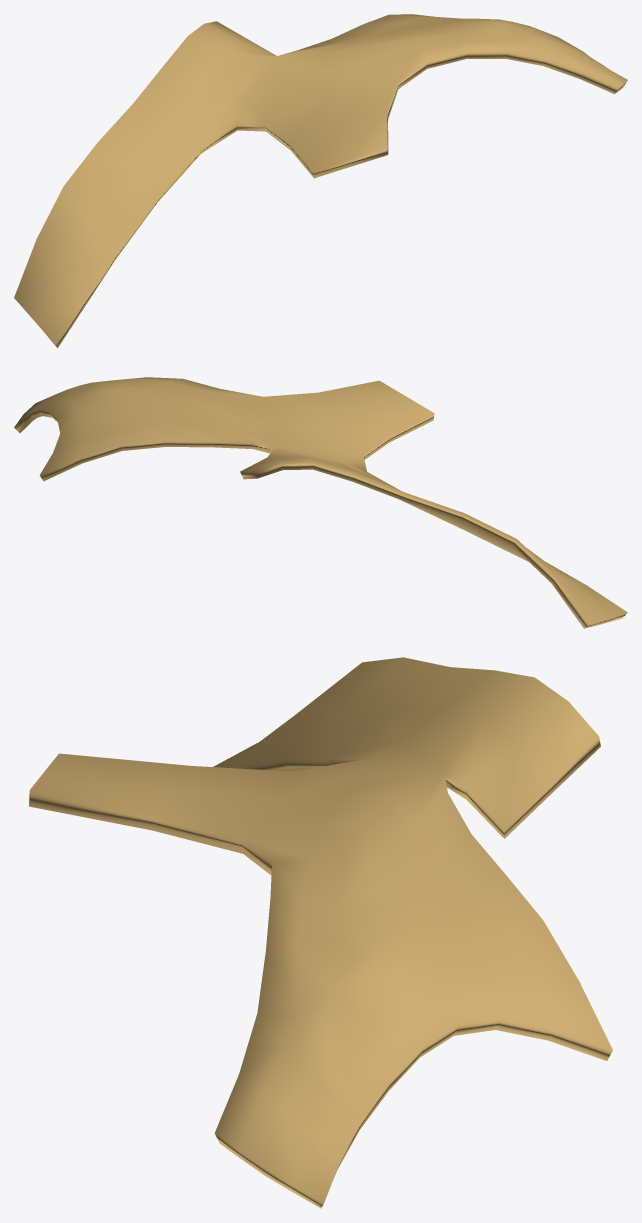
3 views of the same model, one above another, from view 1: azimuth 30°, elevation 25°; view 2: azimuth 150°, elevation 25°; view 3: azimuth 270°, elevation 25° (orthographic). The views are drawn at different scales.
Visible parts, largest first — view 1: 右侧腕骨间背侧韧带; view 2: 右侧腕骨间背侧韧带; view 3: 右侧腕骨间背侧韧带.
Boxes of the visible parts, x1,y1,x2,y2 form: 右侧腕骨间背侧韧带: (14,14,627,348); 右侧腕骨间背侧韧带: (14,377,627,628); 右侧腕骨间背侧韧带: (29,657,612,1208).
Size of the model in its own units: 0.0574 by 0.0165 by 0.0253.
